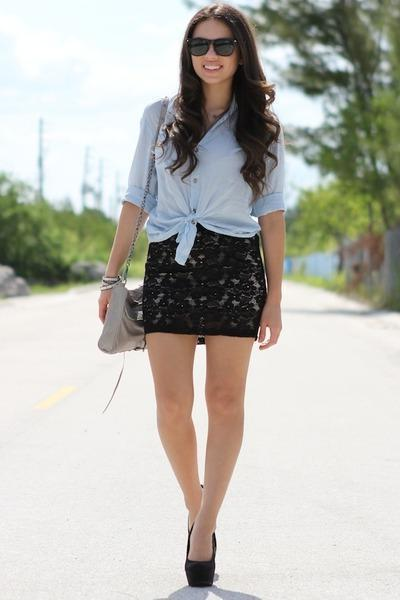short sleeve shirt: (120, 95, 291, 243)
skirt: (137, 225, 265, 342)
